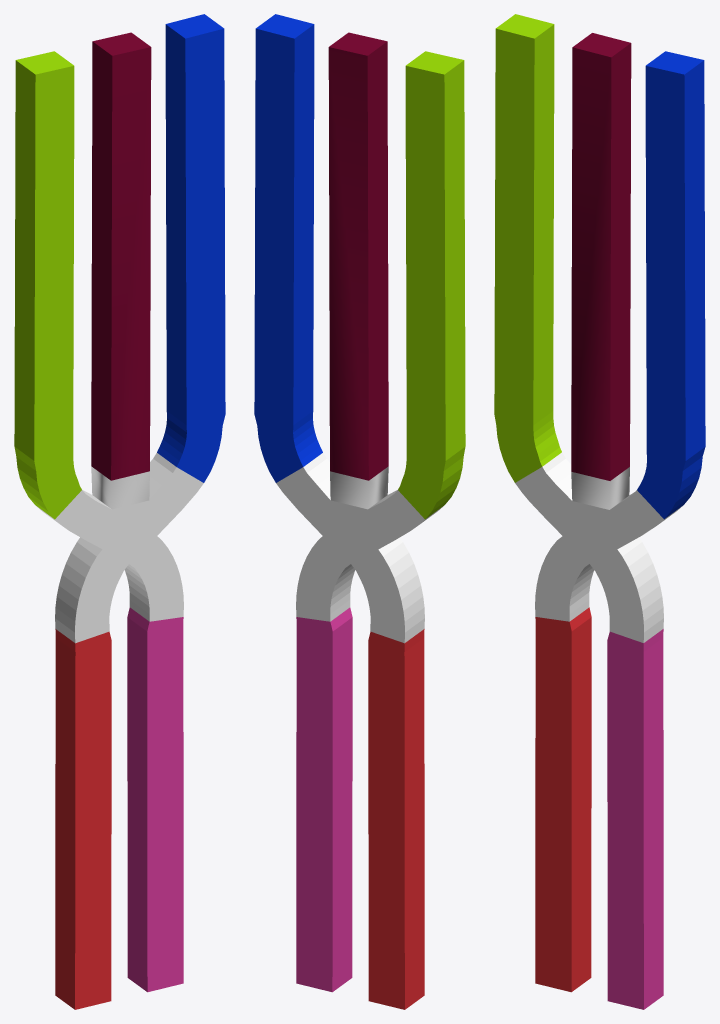
Rendered from New Col Bridge V2.fbx.
3 renders of one model, left to right at view 1: azimuth 30°, elevation 25°; view 2: azimuth 150°, elevation 25°; view 3: azimuth 330°, elevation 25°, orthographic.
Visible parts, largest first — view 1: Cromosome; view 2: Cromosome; view 3: Cromosome.
Boxes of the visible parts, x1,y1,x2,y2 form: Cromosome: (14,14,225,1009); Cromosome: (254,14,465,1009); Cromosome: (494,14,705,1009).
Bounding box in the file's own units: 628 × 2967 × 113.
